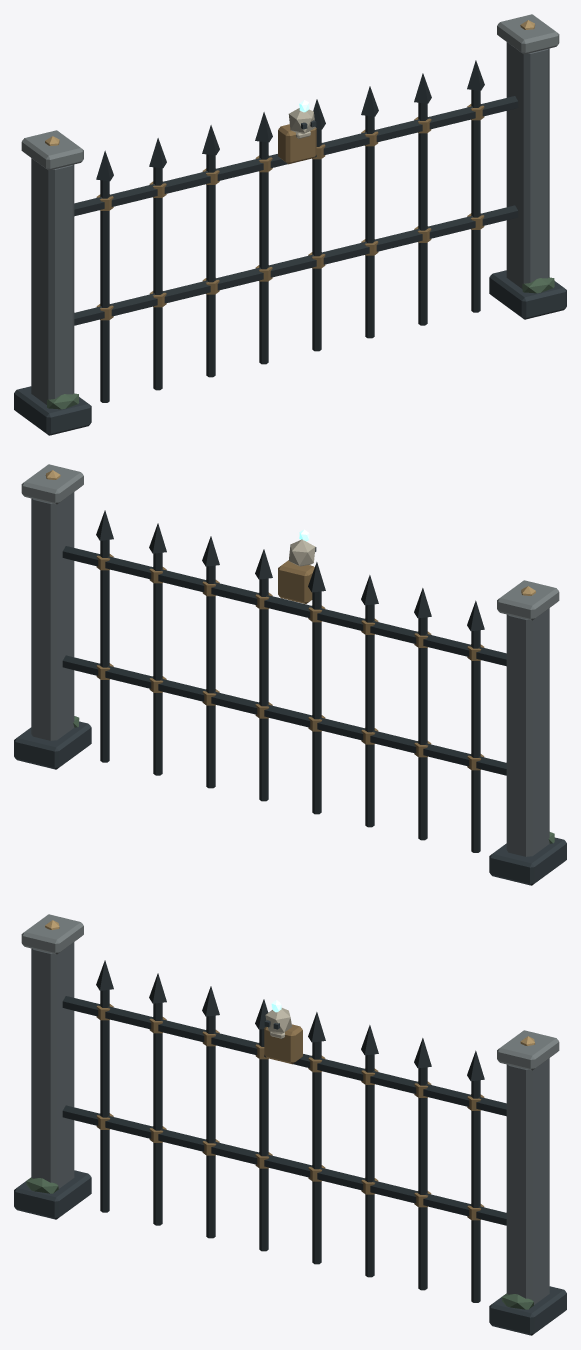
Rendered from warden_grave_fence.glb.
The picture shows the model from 3 angles, top to bottom: view 1: azimuth 30°, elevation 25°; view 2: azimuth 150°, elevation 25°; view 3: azimuth 330°, elevation 25°; orthographic projection.
Parts seen in each view (by area): view 1: warden_grave_fence; view 2: warden_grave_fence; view 3: warden_grave_fence.
Boxes of the visible parts, x1=… form: warden_grave_fence: x1=14, y1=14, x2=566, y2=435; warden_grave_fence: x1=14, y1=464, x2=566, y2=885; warden_grave_fence: x1=14, y1=914, x2=566, y2=1335.
Bounding box in the file's own units: 2.19 × 1.14 × 0.2695.
